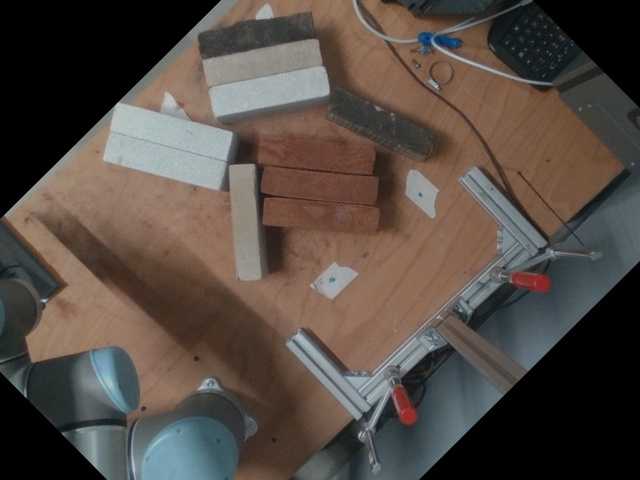brick-side: (328, 86, 436, 153), (103, 133, 223, 186), (111, 105, 230, 157), (211, 67, 330, 112), (202, 38, 321, 83), (196, 11, 315, 56), (262, 167, 374, 202), (263, 140, 375, 175), (264, 198, 375, 232), (230, 165, 259, 277)
